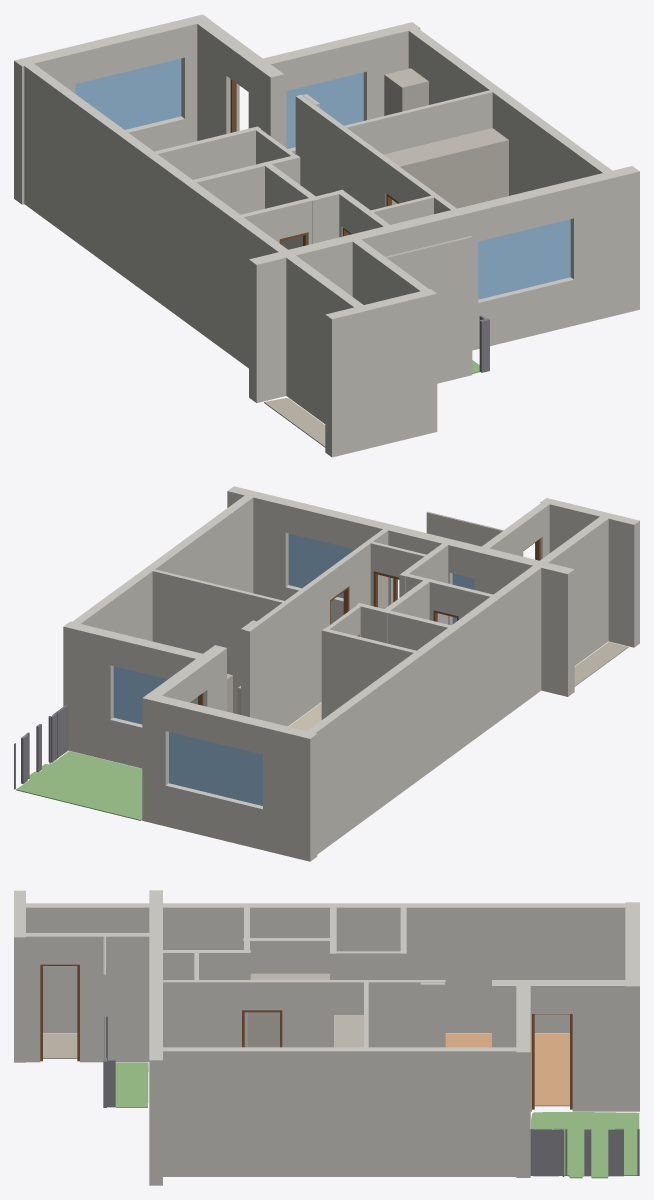
The picture shows the model from 3 angles, top to bottom: view 1: azimuth 30°, elevation 25°; view 2: azimuth 150°, elevation 25°; view 3: azimuth 270°, elevation 25°; orthographic projection. The views are drawn at different scales.
Parts seen in each view (by area): view 1: walls, furniture_1_closet, window_2, window_4, window_0, furniture_0_closet, floor_11_Storage; view 2: walls, floor_9_Outdoor, window_4, window_2, window_0, railings, floor_11_Storage; view 3: walls, floor_9_Outdoor, railings, floor_0_Living_Room, furniture_2_closet, floor_10_Outdoor, furniture_1_closet, floor_8_Storage, door_10, door_3.
Part boxes in pixels (x1,y1,x2,y2): walls: [14, 14, 639, 457]; furniture_1_closet: [383, 128, 508, 208]; window_2: [478, 219, 570, 299]; window_4: [75, 58, 181, 129]; window_0: [286, 72, 363, 148]; furniture_0_closet: [384, 68, 428, 115]; floor_11_Storage: [264, 398, 325, 447]; walls: [63, 486, 639, 861]; floor_9_Outdoor: [16, 751, 142, 820]; window_4: [169, 732, 262, 805]; window_2: [288, 533, 354, 598]; window_0: [113, 666, 167, 724]; railings: [14, 705, 68, 789]; floor_11_Storage: [574, 642, 628, 686]; walls: [14, 890, 639, 1185]; floor_9_Outdoor: [531, 1112, 639, 1178]; railings: [103, 1016, 639, 1176]; floor_0_Living_Room: [445, 1033, 569, 1106]; furniture_2_closet: [248, 973, 329, 1047]; floor_10_Outdoor: [115, 1062, 148, 1107]; furniture_1_closet: [334, 1015, 363, 1047]; floor_8_Storage: [43, 1033, 77, 1058]; door_10: [40, 964, 79, 1061]; door_3: [532, 1014, 572, 1109].
Size of the model in its own units: 7.84 by 2.72 by 12.2.
